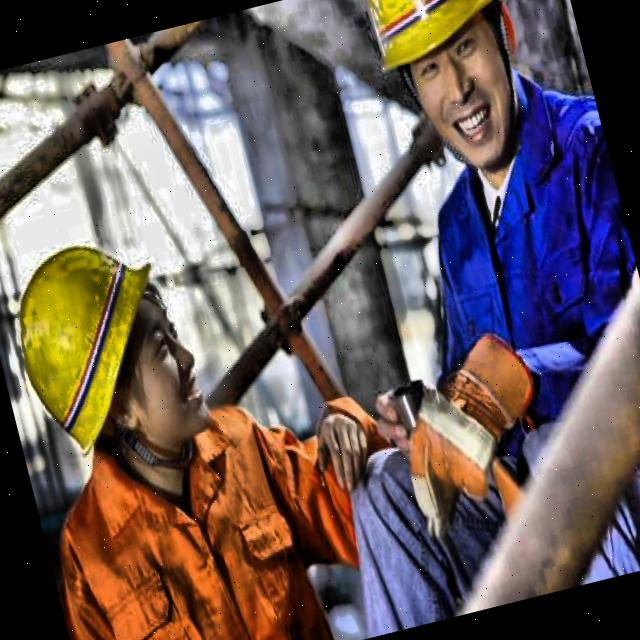helmet: (0, 187, 237, 532), (357, 0, 561, 197)
